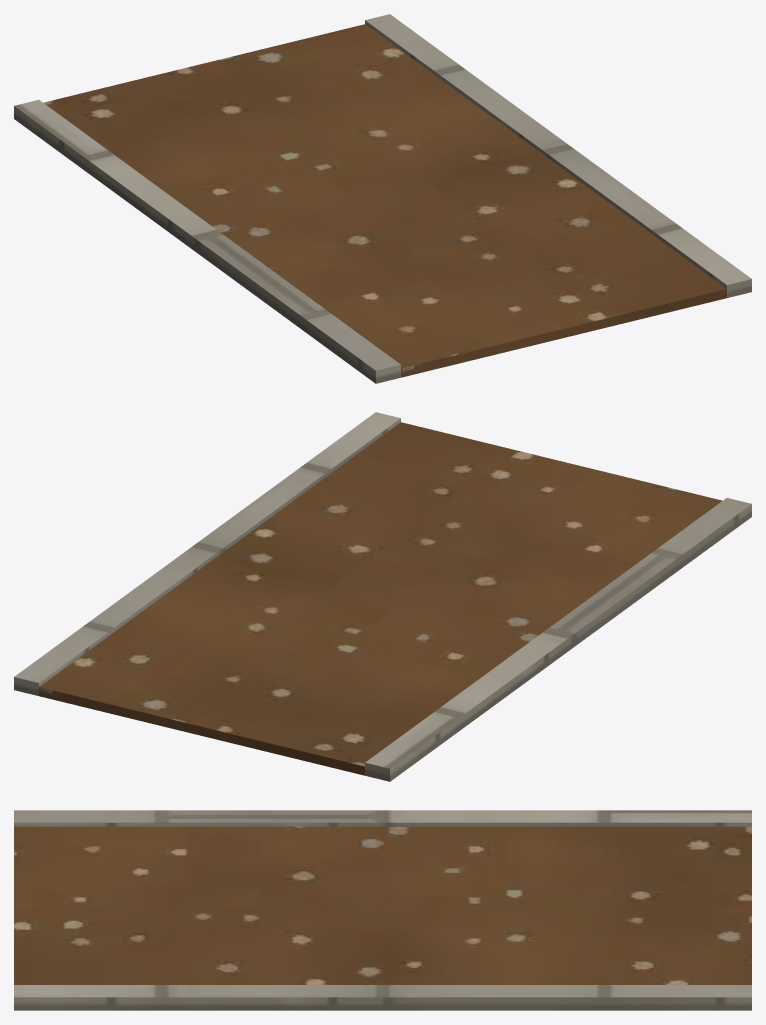
The model's file is tile.straight.glb.
The picture shows the model from 3 angles, top to bottom: view 1: azimuth 30°, elevation 25°; view 2: azimuth 150°, elevation 25°; view 3: azimuth 270°, elevation 25°; orthographic projection.
Parts seen in each view (by area): view 1: path.tile.straight; view 2: path.tile.straight; view 3: path.tile.straight.
Boxes of the visible parts, bbox=[...] form: path.tile.straight: bbox=[14, 14, 751, 383]; path.tile.straight: bbox=[14, 412, 751, 781]; path.tile.straight: bbox=[14, 810, 751, 1010].
Size of the model in its own units: 0.6 by 0.02 by 1.
Materials: 2 (2 with a texture image).
